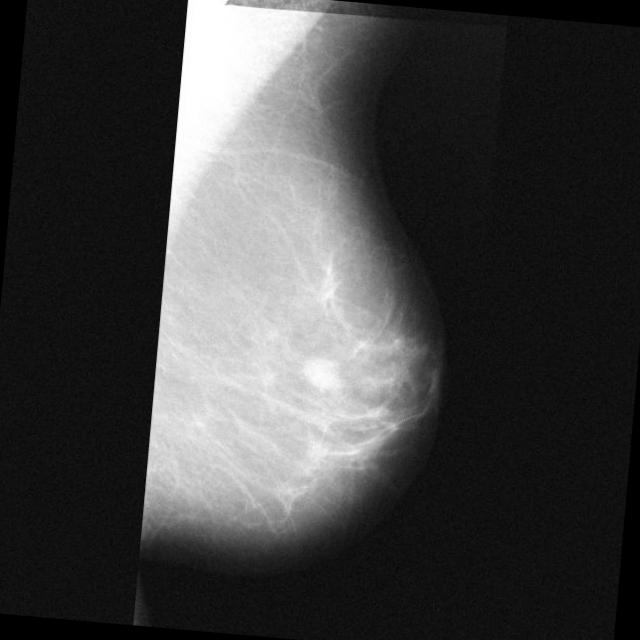CIRC: (302, 353, 346, 397)
